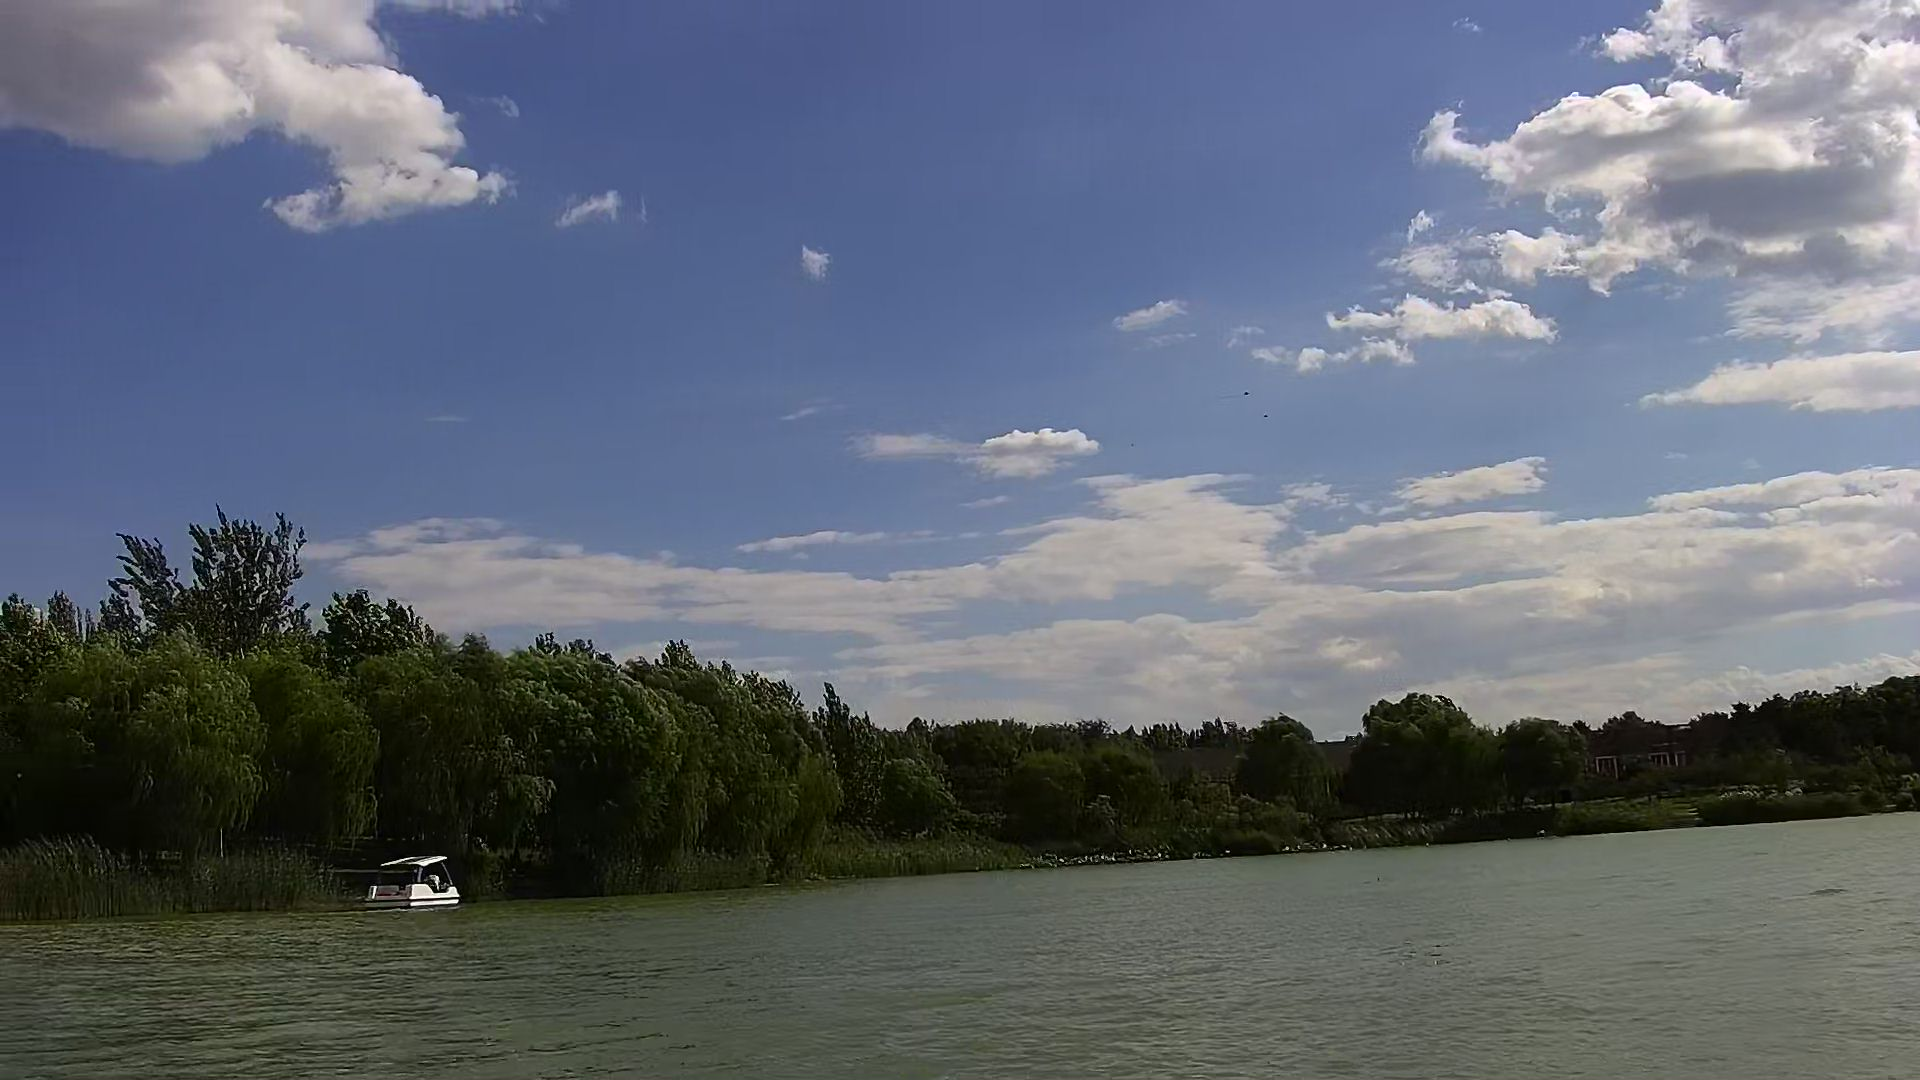boat: (367, 851, 465, 910)
